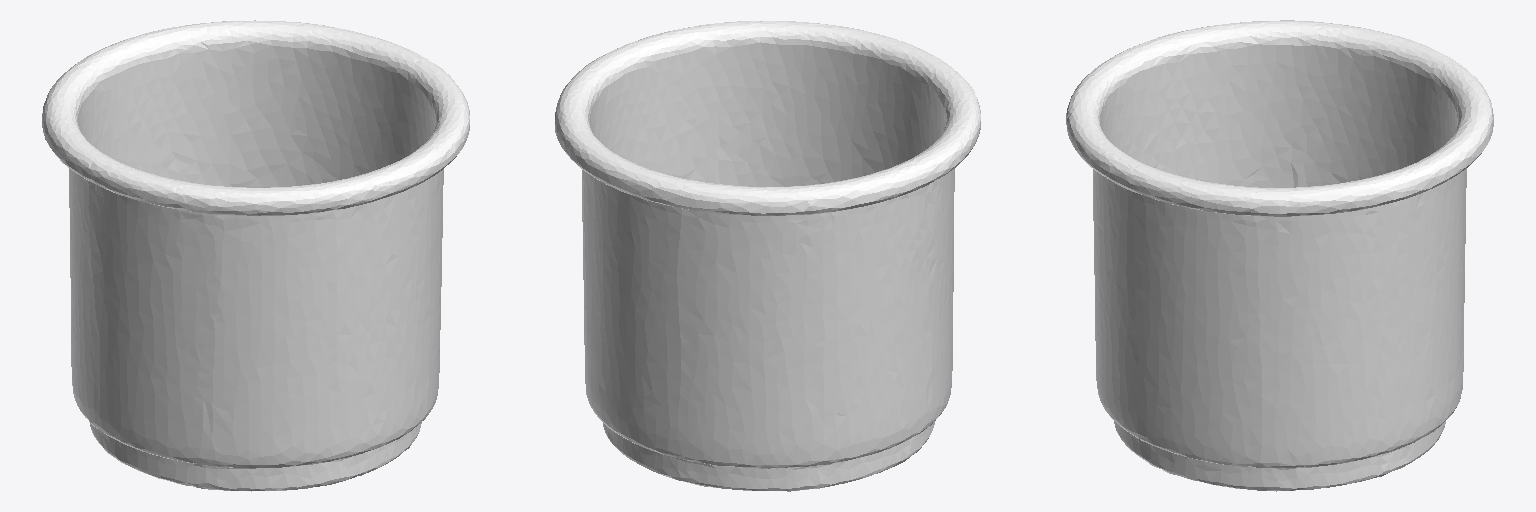
robot.urdf — 031_spoon:
<robot name="031_spoon">
	<link name="_name">
		<visual>
			<origin xyz="0.1805591680130397 0.10160565119345408 -0.10048592434568833" rpy="0 0 0" />
			<geometry>
				<mesh filename="031_spoon/google_16k/textured.obj" scale="10 10 10" />
			</geometry>
			<material name="texture">
				<color rgba="1.0 1.0 1.0 1.0" />
			</material>
		</visual>
		<collision>
			<geometry>
				<mesh filename="031_spoon/google_16k/textured_vhacd.obj" scale="10 10 10" />
			</geometry>
		<origin xyz="0.1805591680130397 0.10160565119345408 -0.10048592434568833" rpy="0 0 0" /></collision>
		<inertial>
			<mass value="1.0" />
			<inertia ixx="1.0" ixy="0.0" ixz="0.0" iyy="1.0" iyz="0.0" izz="1.0" />
		</inertial>
	</link>
</robot>

--- Facts derived from the render (not from the file) ---
Views: 3 orthographic renders of the robot side by side, from view 1: azimuth 30°, elevation 25°; view 2: azimuth 150°, elevation 25°; view 3: azimuth 270°, elevation 25°.
Model 031_spoon with 1 links and 0 joints (none), rooted at _name, posed every joint at zero.
Visible links, largest first — view 1: _name; view 2: _name; view 3: _name.
Link boxes in pixels (left/top/right/bottom): _name: left=42, top=20, right=469, bottom=491; _name: left=555, top=20, right=980, bottom=491; _name: left=1066, top=20, right=1493, bottom=491.
Bounding box of the posed robot: 0.915 × 0.9162 × 0.7506 m (x, y, z).
1 mesh visuals loaded from 1 distinct referenced files (1 OBJ).